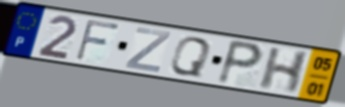2: (37, 14, 80, 62)
F: (73, 17, 123, 63)
H: (256, 46, 312, 95)
P: (214, 38, 266, 87)
Q: (167, 36, 214, 79)
Z: (123, 26, 174, 75)
